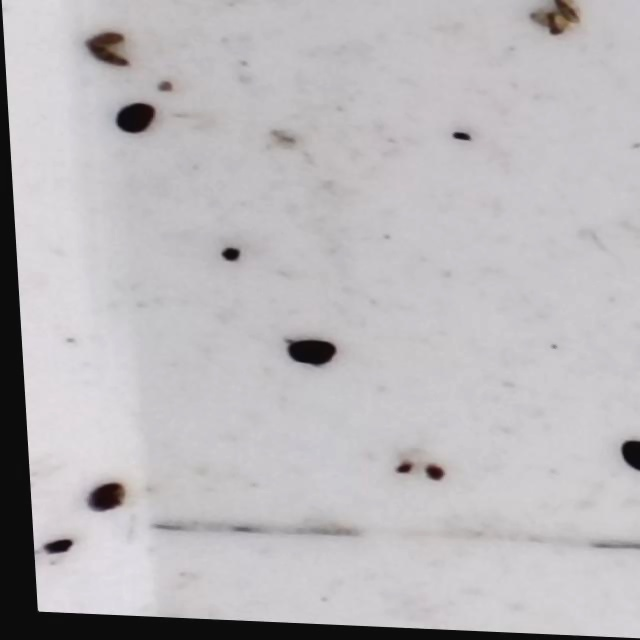varroa: (277, 339, 336, 373), (76, 484, 121, 523), (108, 106, 156, 142)
